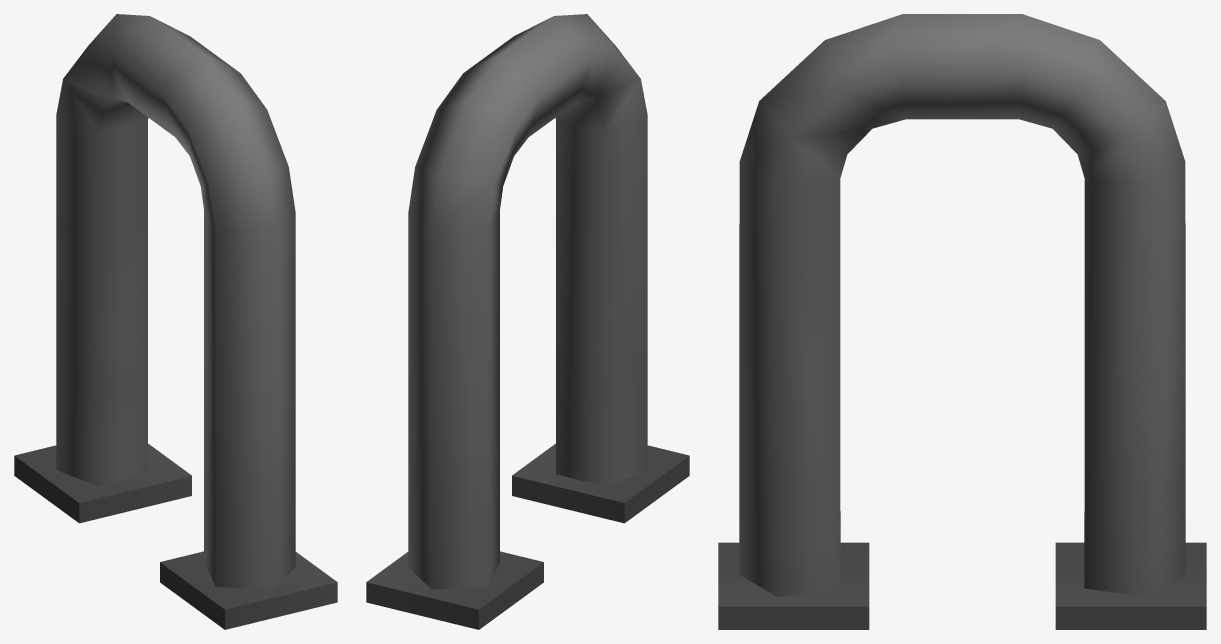
The model's file is Bollards_3_D.fbx.
3 views of the same model, side by side, from view 1: azimuth 30°, elevation 25°; view 2: azimuth 150°, elevation 25°; view 3: azimuth 270°, elevation 25° (orthographic). The views are drawn at different scales.
Parts seen in each view (by area): view 1: Bollards_3_D; view 2: Bollards_3_D; view 3: Bollards_3_D.
Part boxes in pixels (x1,y1,x2,y2): Bollards_3_D: [14, 14, 337, 629]; Bollards_3_D: [366, 14, 689, 629]; Bollards_3_D: [718, 14, 1206, 629].
Bounding box in the file's own units: 15.3 × 65.37 × 49.51.
